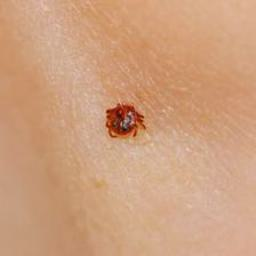Dermacentor variabilis: (104, 101, 146, 140)
